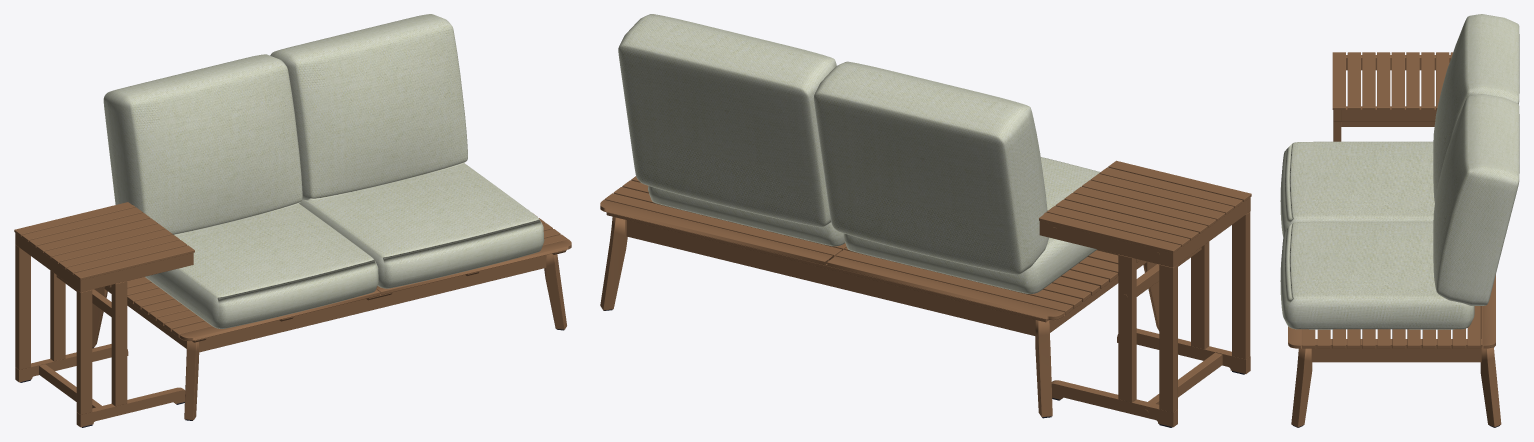
The model's file is SofaJardin-35escala.gltf.
3 views of the same model, side by side, from view 1: azimuth 30°, elevation 25°; view 2: azimuth 150°, elevation 25°; view 3: azimuth 270°, elevation 25° (orthographic). The views are drawn at different scales.
Visible parts, largest first — view 1: Cube.000, Cube.056, Cube.001, Cube.057, Cube.049, Cube.038, Cube.037, Cube.039, Cube, Cube.042, Cube.040, Cube.065 (+15 smaller); view 2: Cube.000, Cube.056, Cube.046, Cube.001, Cube.057, Cube.064, Cube.058, Cube.039, Cube.040, Cube.038, Cube.013, Cube.014 (+19 smaller); view 3: Cube.057, Cube.056, Cube.001, Cube.000, Cube.047, Cube.044, Cube.062, Cube.061, Cube.032, Cube.031, Cube.030, Cube.027 (+21 smaller).
Part boxes in pixels (bbox=[...]): Cube.000: bbox=[103, 54, 302, 235]; Cube.056: bbox=[270, 14, 467, 200]; Cube.001: bbox=[145, 203, 378, 328]; Cube.057: bbox=[299, 163, 544, 288]; Cube.049: bbox=[199, 255, 546, 352]; Cube.038: bbox=[76, 289, 92, 414]; Cube.037: bbox=[111, 281, 127, 406]; Cube.039: bbox=[15, 245, 30, 369]; Cube: bbox=[76, 387, 185, 427]; Cube.042: bbox=[76, 253, 193, 292]; Cube.040: bbox=[50, 270, 65, 361]; Cube.065: bbox=[179, 289, 379, 341]; Cube.000: bbox=[813, 61, 1048, 274]; Cube.056: bbox=[618, 14, 836, 227]; Cube.046: bbox=[626, 220, 1035, 335]; Cube.001: bbox=[843, 157, 1100, 293]; Cube.057: bbox=[648, 186, 844, 246]; Cube.064: bbox=[827, 256, 1064, 320]; Cube.058: bbox=[600, 199, 832, 265]; Cube.039: bbox=[1159, 264, 1177, 412]; Cube.040: bbox=[1118, 254, 1136, 402]; Cube.038: bbox=[1232, 212, 1250, 359]; Cube.013: bbox=[836, 249, 1073, 315]; Cube.014: bbox=[604, 193, 841, 257]; Cube.057: bbox=[1280, 221, 1474, 329]; Cube.056: bbox=[1433, 94, 1519, 305]; Cube.001: bbox=[1280, 141, 1434, 236]; Cube.000: bbox=[1433, 14, 1519, 202]; Cube.047: bbox=[1311, 347, 1481, 362]; Cube.044: bbox=[1341, 106, 1436, 121]; Cube.062: bbox=[1480, 338, 1501, 427]; Cube.061: bbox=[1291, 340, 1312, 427]; Cube.032: bbox=[1421, 52, 1434, 109]; Cube.031: bbox=[1406, 52, 1419, 109]; Cube.030: bbox=[1391, 52, 1404, 109]; Cube.027: bbox=[1362, 52, 1375, 109].
Bounding box in the file's own units: 2.71 × 1.37 × 1.2.
3 materials, 2 textured.
